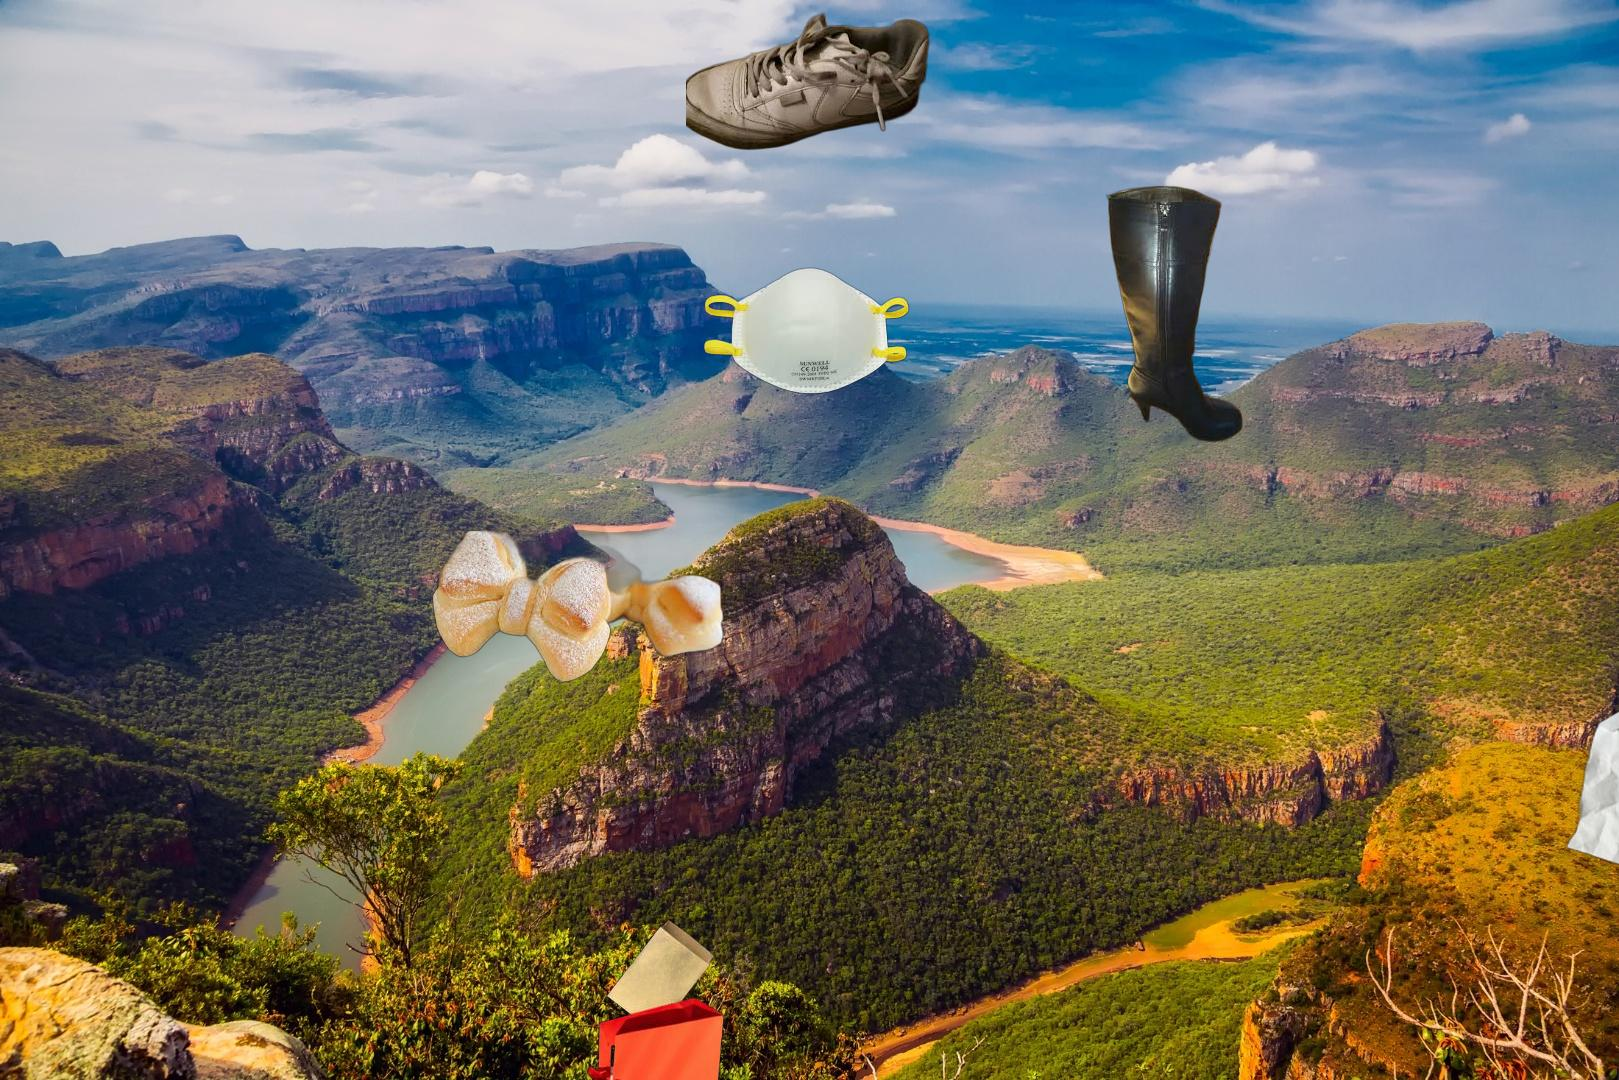battery: (1491, 583, 1619, 1080)
biological: (432, 516, 729, 683)
paper: (1559, 700, 1619, 928)
paper-bag: (585, 918, 733, 1080)
shoes: (1105, 184, 1245, 445), (686, 10, 932, 153)
trash: (700, 265, 913, 397)
